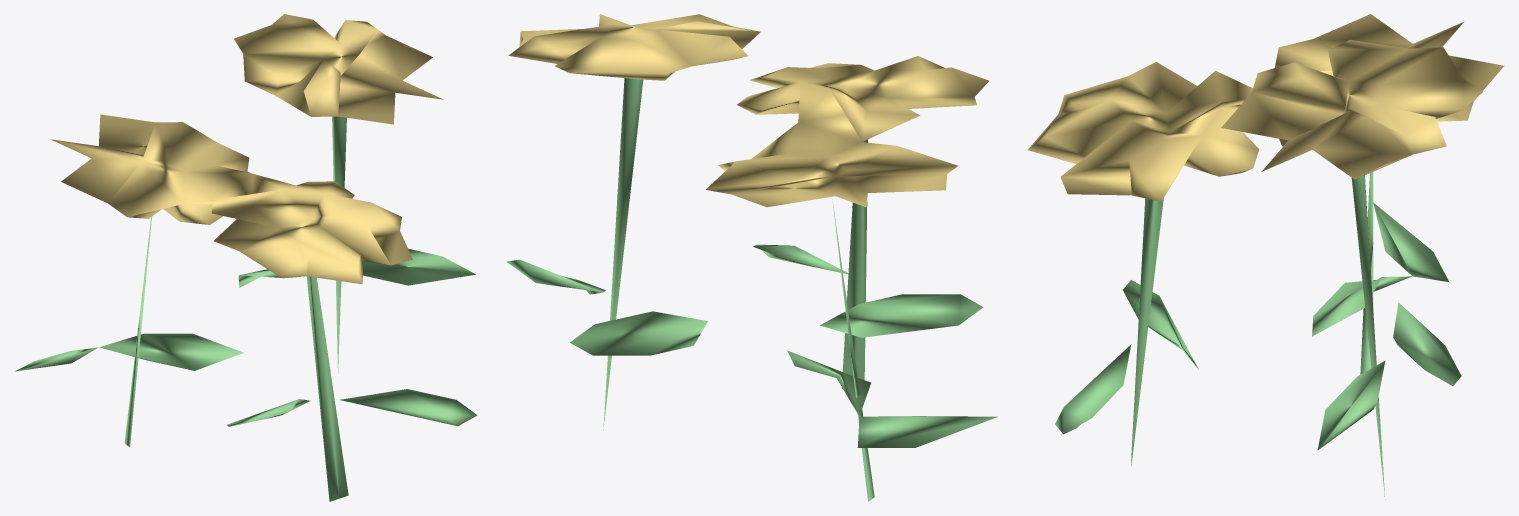
The model's file is flower_1_spring_low.glb.
The picture shows the model from 3 angles, left to right: view 1: azimuth 30°, elevation 25°; view 2: azimuth 150°, elevation 25°; view 3: azimuth 270°, elevation 25°; orthographic projection. The views are drawn at different scales.
Bounding box in the file's own units: 0.5021 × 0.3929 × 0.3944.
